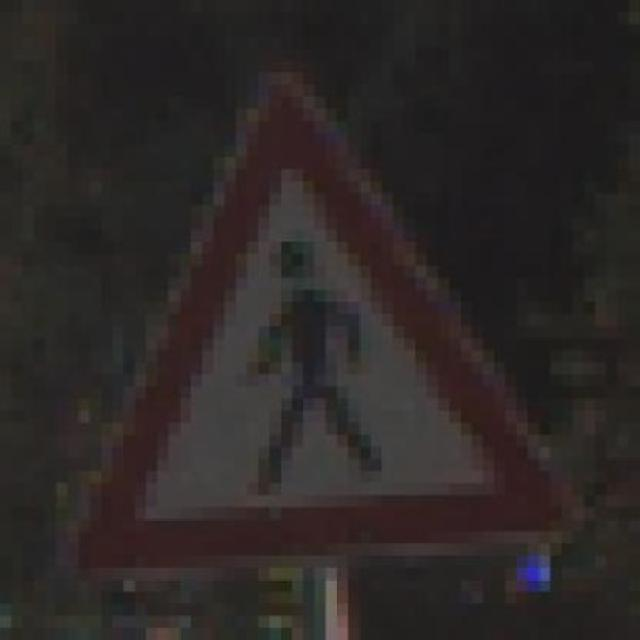Pedestrian Crossing: (56, 35, 573, 568)
